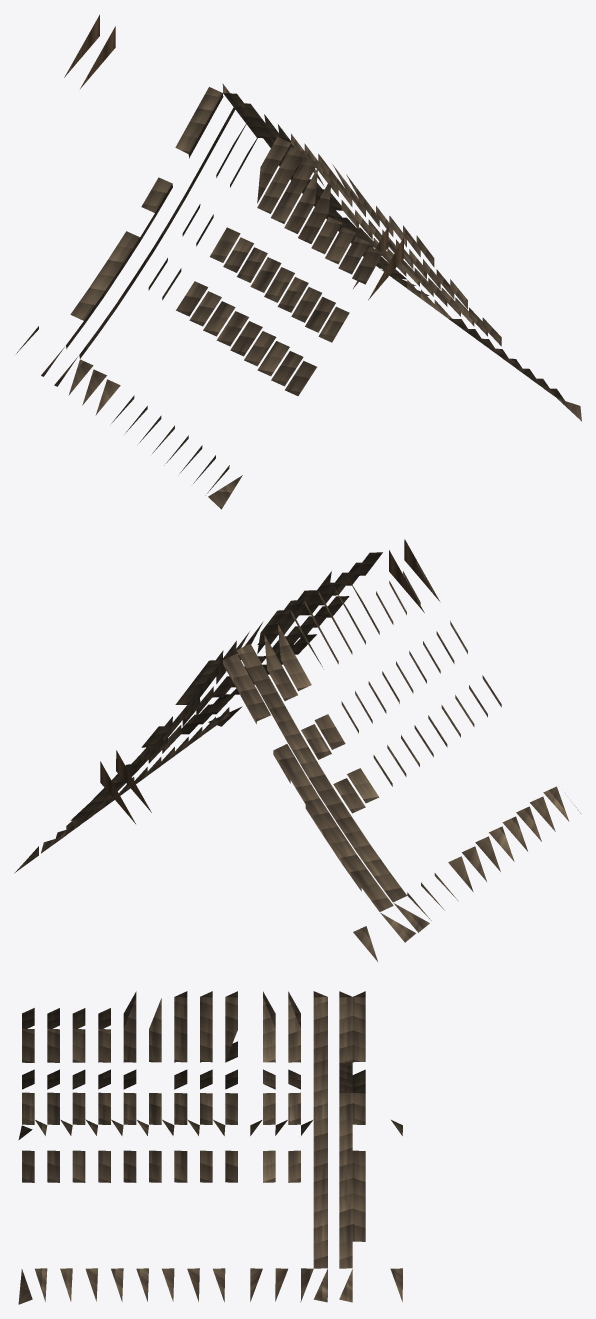
Rendered from Roof_Shingle_6x10_LOD2.gltf.
3 renders of one model, top to bottom at view 1: azimuth 30°, elevation 25°; view 2: azimuth 150°, elevation 25°; view 3: azimuth 270°, elevation 25°, orthographic. The views are drawn at different scales.
Visible parts, largest first — view 1: Roof_Shingle_6x10_LOD2; view 2: Roof_Shingle_6x10_LOD2; view 3: Roof_Shingle_6x10_LOD2.
Boxes of the visible parts, bbox=[...] form: Roof_Shingle_6x10_LOD2: bbox=[16, 14, 581, 509]; Roof_Shingle_6x10_LOD2: bbox=[14, 539, 580, 961]; Roof_Shingle_6x10_LOD2: bbox=[18, 991, 402, 1304].
Bounding box in the file's own units: 8.25 × 5.17 × 11.66.
Materials: 2 (2 with a texture image).
